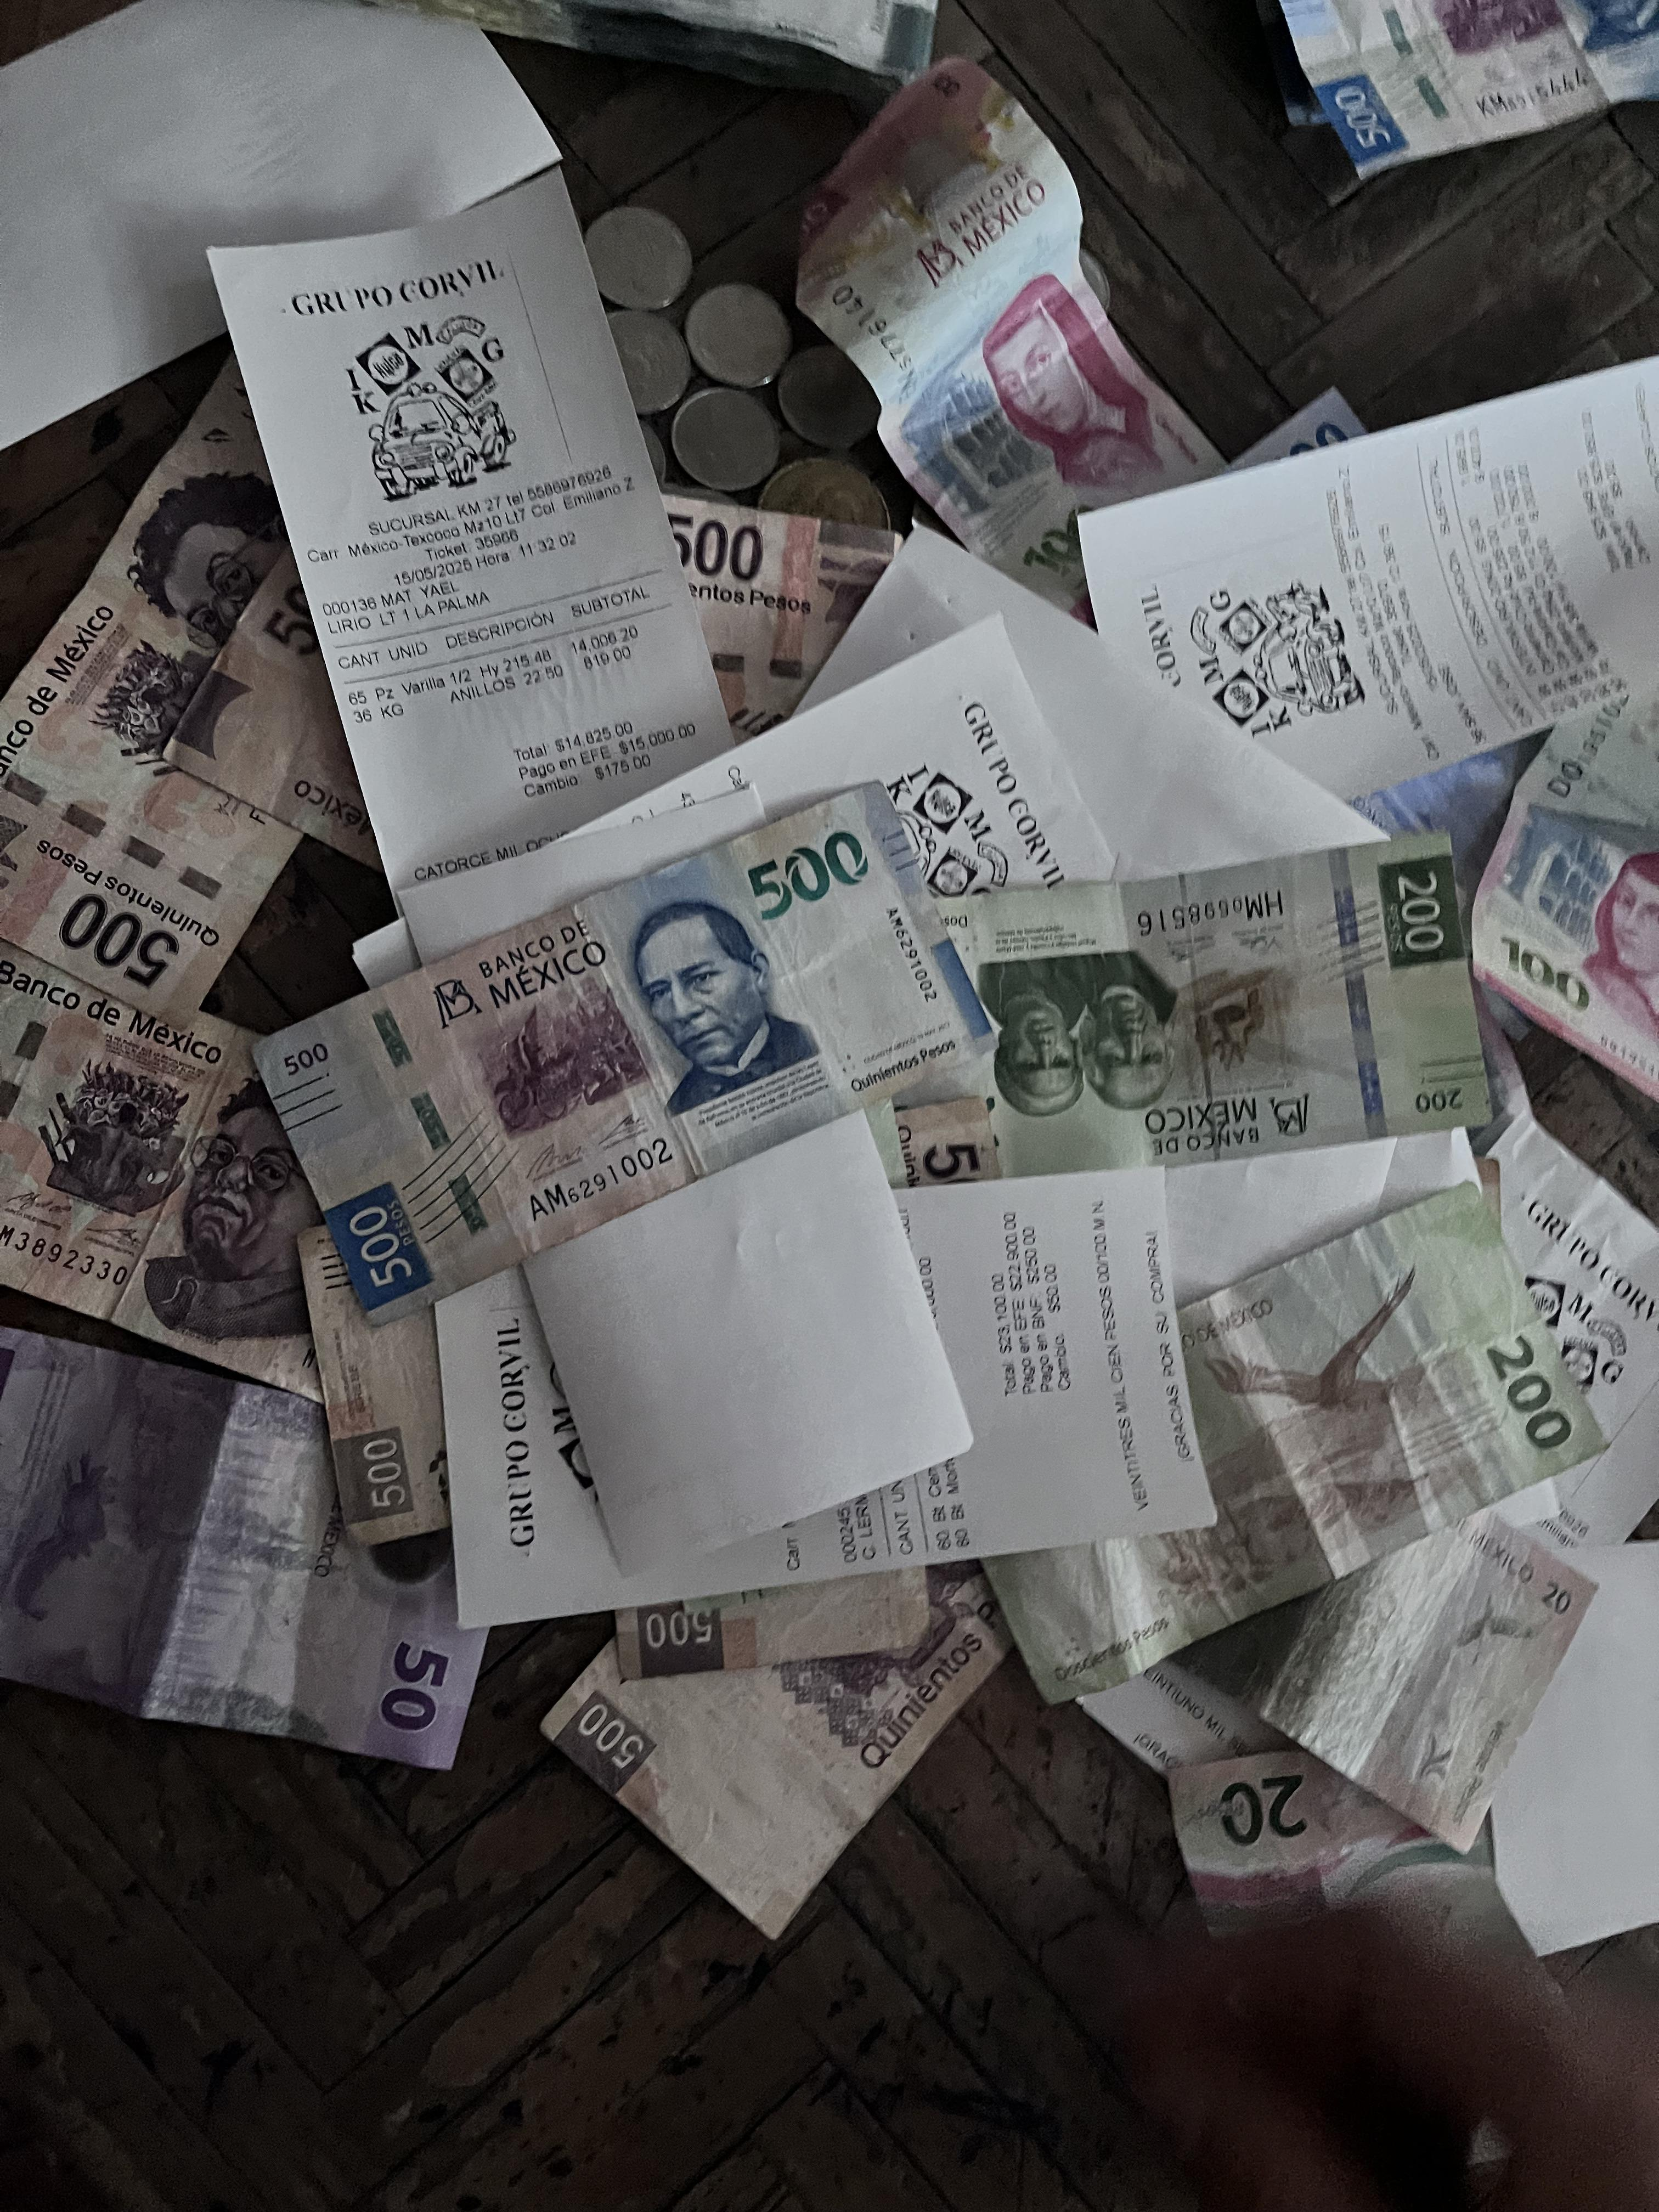100: (774, 44, 1239, 669), (1446, 500, 1659, 1113)
20: (1119, 1747, 1588, 2106), (1230, 1482, 1621, 1838)
200: (918, 1179, 1582, 1703), (779, 845, 1525, 1193)
50: (0, 1284, 526, 1775)
500: (0, 338, 333, 1021), (491, 1541, 1049, 1932), (0, 941, 411, 1376), (584, 474, 955, 784), (277, 1207, 511, 1606)
500 nuevo: (214, 782, 993, 1345), (1227, 0, 1659, 219)
